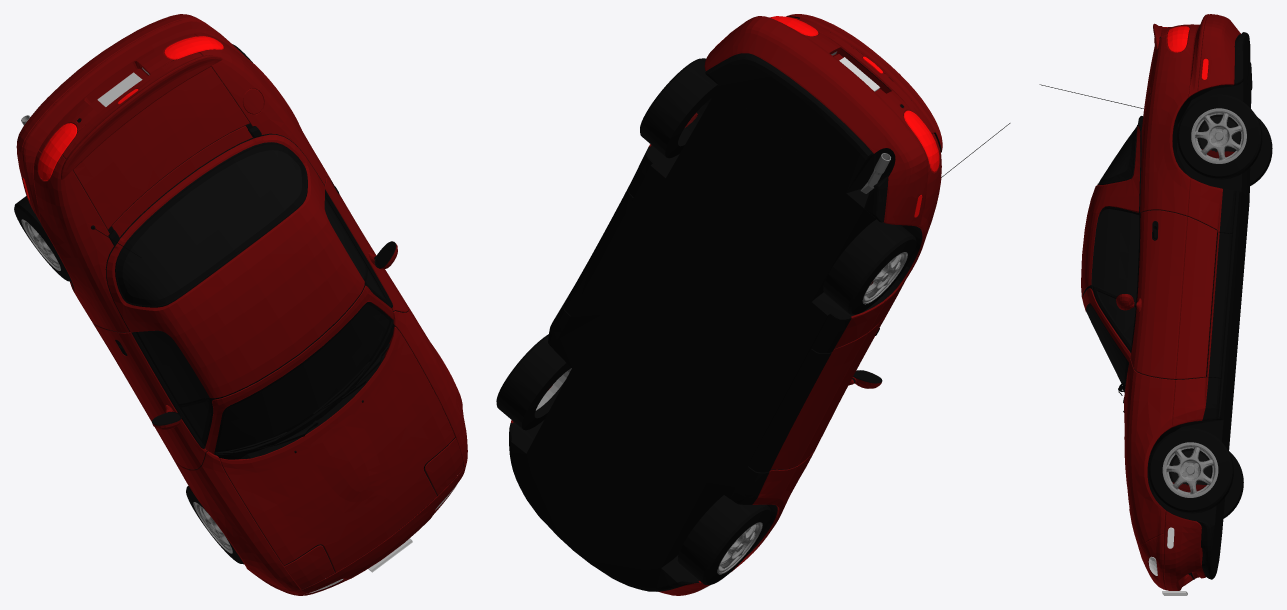
The model's file is mazda_mx5_miata_converted.obj.
The picture shows the model from 3 angles, left to right: view 1: azimuth 30°, elevation 25°; view 2: azimuth 150°, elevation 25°; view 3: azimuth 270°, elevation 25°; orthographic projection. The views are drawn at different scales.
Visible parts, largest first — view 1: Mazda_MX5_Miata_Paint_0, Mazda_MX5_Miata_Windows_0, Mazda_MX5_Miata_Black_0, Pop_ups_Paint_0, Mazda_MX5_Miata_Red_Lights_0, Rear_Wheels_Black_0, Mazda_MX5_Miata_Licence_Plate_0; view 2: Mazda_MX5_Miata_Black_0, Mazda_MX5_Miata_Paint_0, Rear_Wheels_Black_0, Front_Right_Wheels_Black_0, Front_Left_Wheels_Black_0, Mazda_MX5_Miata_Red_Lights_0, Front_Right_Wheels_Rims_0, Rear_Wheels_Rims_0; view 3: Mazda_MX5_Miata_Paint_0, Mazda_MX5_Miata_Black_0, Mazda_MX5_Miata_Windows_0, Rear_Wheels_Black_0, Front_Left_Wheels_Black_0, Front_Left_Wheels_Rims_0, Rear_Wheels_Rims_0, Front_Right_Wheels_Black_0, Mazda_MX5_Miata_Red_Lights_0, Rear_Wheels_Disk_0, Front_Left_Wheels_Disk_0.
Part boxes in pixels (x1=…): Mazda_MX5_Miata_Paint_0: x1=16, y1=14, x2=467, y2=595; Mazda_MX5_Miata_Windows_0: x1=122, y1=150, x2=389, y2=449; Mazda_MX5_Miata_Black_0: x1=62, y1=52, x2=463, y2=589; Pop_ups_Paint_0: x1=284, y1=438, x2=463, y2=589; Mazda_MX5_Miata_Red_Lights_0: x1=23, y1=36, x2=223, y2=200; Rear_Wheels_Black_0: x1=14, y1=44, x2=252, y2=281; Mazda_MX5_Miata_Licence_Plate_0: x1=97, y1=72, x2=412, y2=572; Mazda_MX5_Miata_Black_0: x1=509, y1=16, x2=1010, y2=591; Mazda_MX5_Miata_Paint_0: x1=511, y1=14, x2=942, y2=595; Rear_Wheels_Black_0: x1=640, y1=58, x2=916, y2=314; Front_Right_Wheels_Black_0: x1=677, y1=495, x2=770, y2=584; Front_Left_Wheels_Black_0: x1=496, y1=334, x2=570, y2=430; Mazda_MX5_Miata_Red_Lights_0: x1=715, y1=16, x2=939, y2=217; Front_Right_Wheels_Rims_0: x1=717, y1=522, x2=762, y2=574; Rear_Wheels_Rims_0: x1=862, y1=252, x2=907, y2=304; Mazda_MX5_Miata_Paint_0: x1=1081, y1=14, x2=1240, y2=590; Mazda_MX5_Miata_Black_0: x1=1039, y1=31, x2=1252, y2=579; Mazda_MX5_Miata_Windows_0: x1=1087, y1=131, x2=1139, y2=389; Rear_Wheels_Black_0: x1=1177, y1=94, x2=1272, y2=185; Front_Left_Wheels_Black_0: x1=1148, y1=428, x2=1233, y2=513; Front_Left_Wheels_Rims_0: x1=1162, y1=442, x2=1218, y2=497; Rear_Wheels_Rims_0: x1=1191, y1=108, x2=1246, y2=163; Front_Right_Wheels_Black_0: x1=1223, y1=451, x2=1243, y2=518; Mazda_MX5_Miata_Red_Lights_0: x1=1163, y1=26, x2=1208, y2=79; Rear_Wheels_Disk_0: x1=1199, y1=116, x2=1240, y2=152; Front_Left_Wheels_Disk_0: x1=1171, y1=450, x2=1211, y2=485.
Bounding box in the file's own units: 1.12 × 1.52 × 0.6277.
